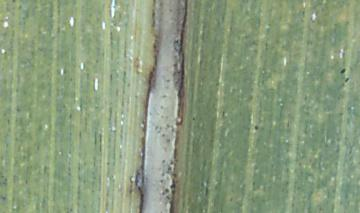tarspot: (252, 123, 259, 131), (343, 76, 350, 83), (338, 68, 346, 74)
